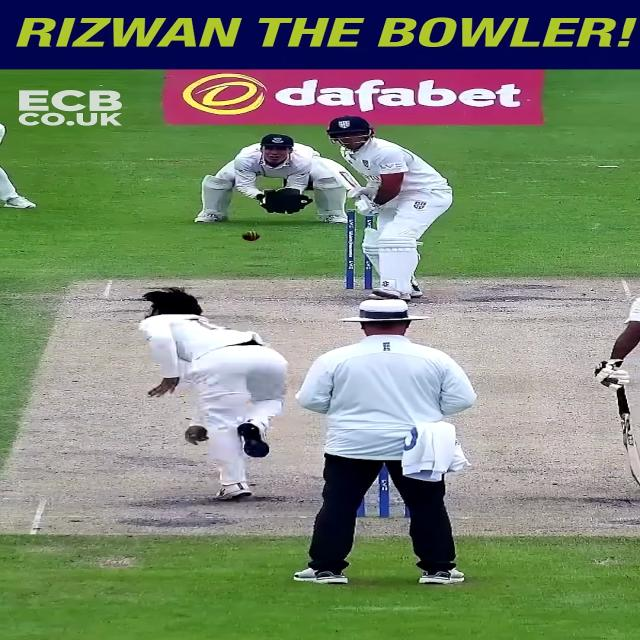ball: (239, 229, 261, 242)
